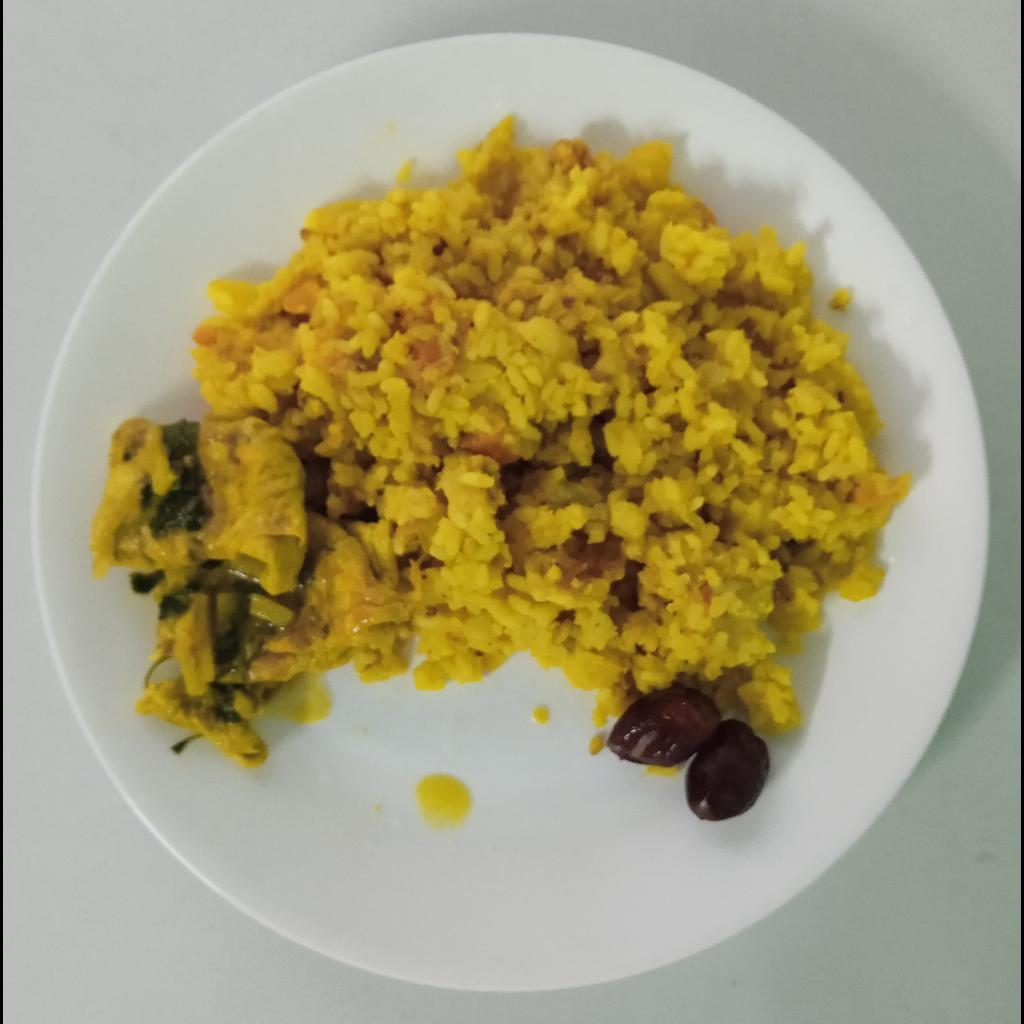cauliflower: (87, 415, 408, 772)
dates: (606, 691, 770, 823)
khichuri: (191, 117, 914, 743)
